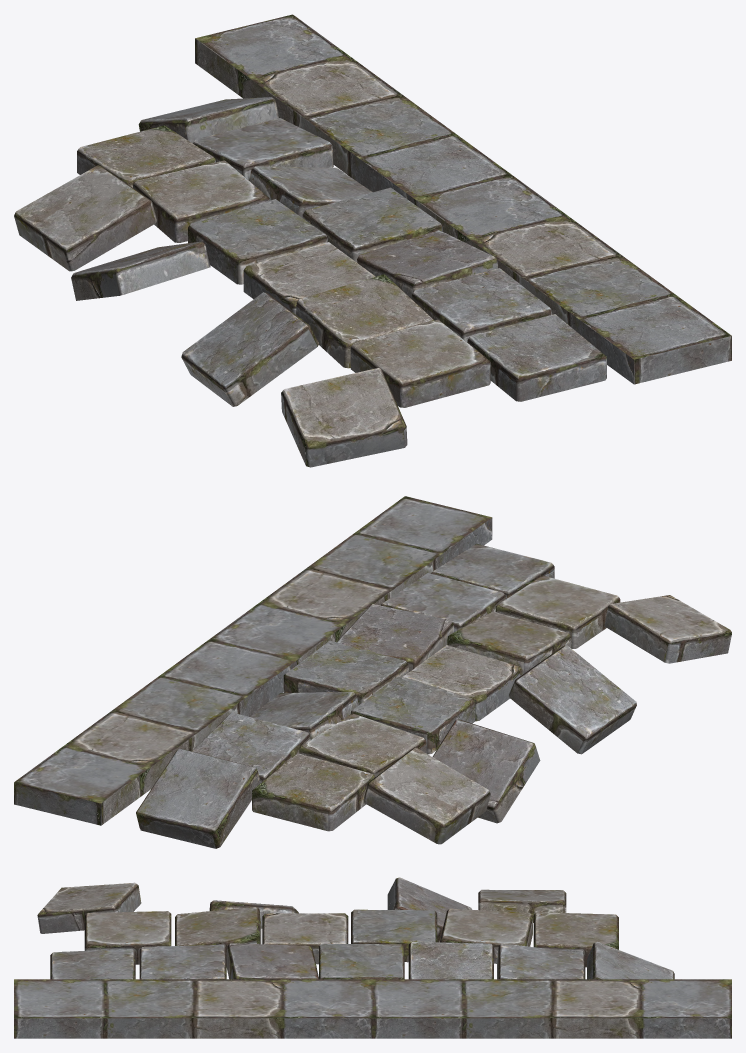
3 renders of one model, top to bottom at view 1: azimuth 30°, elevation 25°; view 2: azimuth 150°, elevation 25°; view 3: azimuth 270°, elevation 25°, orthographic. The views are drawn at different scales.
Visible parts, largest first — view 1: SM_Greathall_Floor_8x8_Broken_04_LOD0; view 2: SM_Greathall_Floor_8x8_Broken_04_LOD0; view 3: SM_Greathall_Floor_8x8_Broken_04_LOD0.
Part boxes in pixels (bbox=[...]): SM_Greathall_Floor_8x8_Broken_04_LOD0: bbox=[14, 14, 731, 467]; SM_Greathall_Floor_8x8_Broken_04_LOD0: bbox=[14, 496, 731, 848]; SM_Greathall_Floor_8x8_Broken_04_LOD0: bbox=[14, 877, 731, 1038].
Bounding box in the file's own units: 4.18 × 0.7808 × 8.
1 material, 1 textured.
